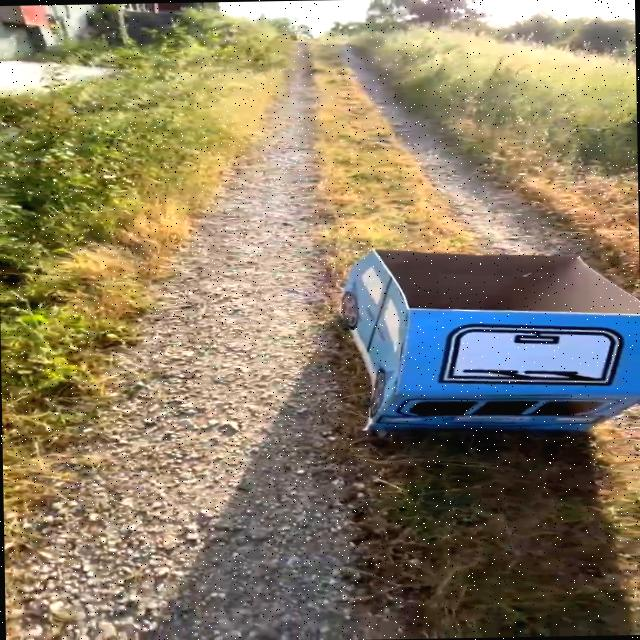blue_car: (279, 229, 640, 447)
